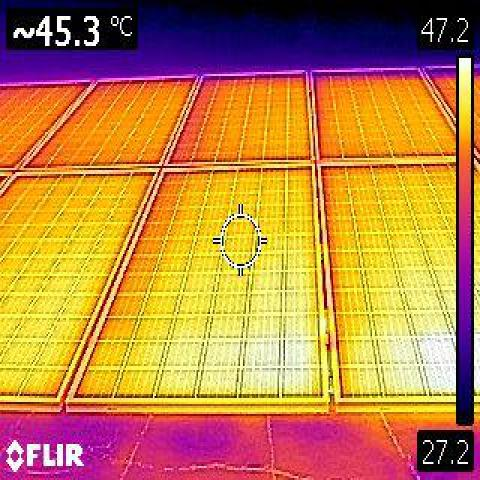fault: (242, 310, 318, 400), (387, 313, 444, 396)
